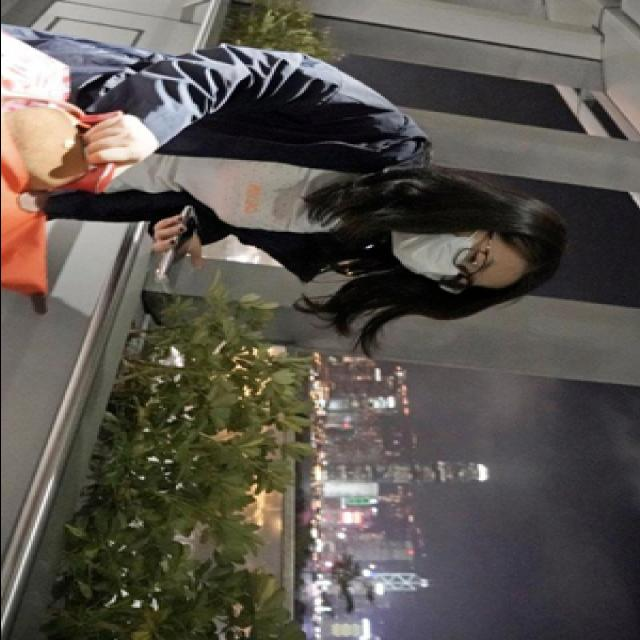with_mask: (393, 232, 497, 290)
